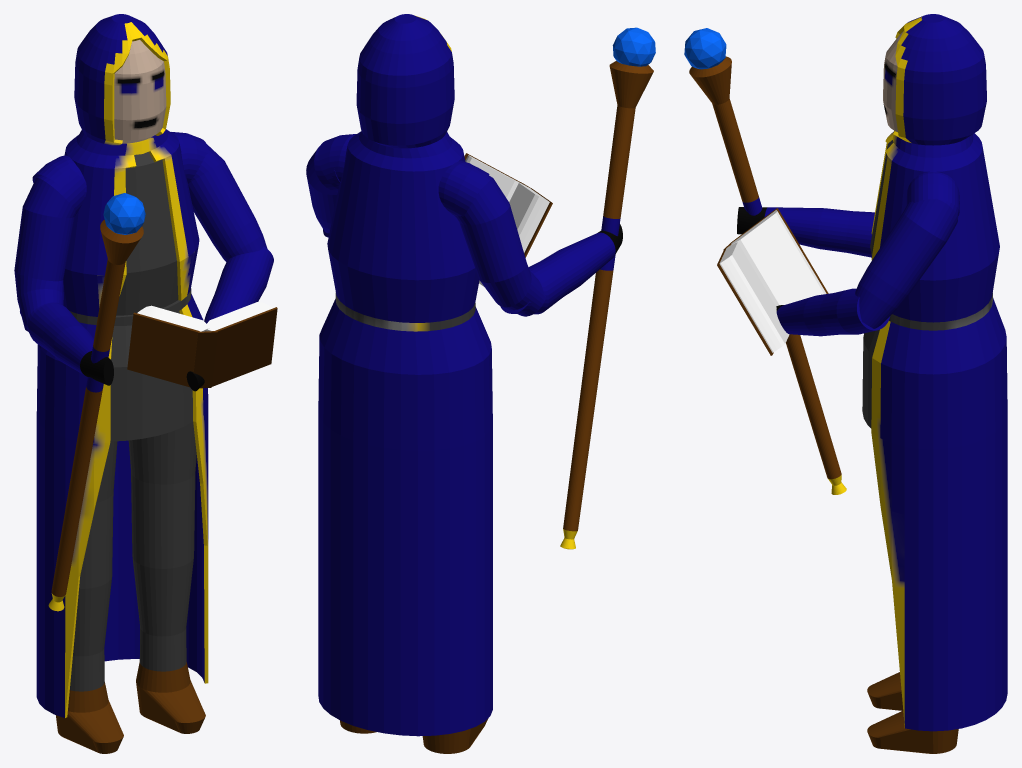
File: Маг2.fbx
3 renders of one model, left to right at view 1: azimuth 30°, elevation 25°; view 2: azimuth 150°, elevation 25°; view 3: azimuth 270°, elevation 25°, orthographic.
Parts seen in each view (by area): view 1: Цилиндр.121, Цилиндр.118, Цилиндр.099, Цилиндр.111, Цилиндр.116, Цилиндр.030, Цилиндр.113, Цилиндр.114, Куб.059, Цилиндр.117, Куб.060, Цилиндр.115 (+7 smaller); view 2: Цилиндр.121, Цилиндр.030, Цилиндр.116, Цилиндр.117, Цилиндр.119, Цилиндр.114, Куб.062, Икосфера.001, Цилиндр.120, Цилиндр.113, Куб.063; view 3: Цилиндр.121, Цилиндр.114, Цилиндр.030, Куб.062, Цилиндр.117, Цилиндр.115, Куб.063, Цилиндр.118, Цилиндр.099, Икосфера.001, Цилиндр.120, Цилиндр.113.
Part boxes in pixels (x1=…): Цилиндр.121: x1=36, y1=14, x2=208, y2=717; Цилиндр.118: x1=110, y1=39, x2=192, y2=441; Цилиндр.099: x1=132, y1=557, x2=205, y2=733; Цилиндр.111: x1=128, y1=421, x2=196, y2=568; Цилиндр.116: x1=14, y1=168, x2=86, y2=331; Цилиндр.030: x1=48, y1=220, x2=143, y2=611; Цилиндр.113: x1=56, y1=578, x2=123, y2=753; Цилиндр.114: x1=188, y1=144, x2=267, y2=262; Куб.059: x1=127, y1=312, x2=199, y2=387; Цилиндр.117: x1=20, y1=302, x2=113, y2=385; Куб.060: x1=211, y1=307, x2=277, y2=386; Цилиндр.115: x1=186, y1=246, x2=273, y2=391; Цилиндр.121: x1=318, y1=14, x2=492, y2=736; Цилиндр.030: x1=560, y1=61, x2=653, y2=549; Цилиндр.116: x1=454, y1=163, x2=545, y2=316; Цилиндр.117: x1=500, y1=224, x2=622, y2=314; Цилиндр.119: x1=438, y1=160, x2=489, y2=216; Цилиндр.114: x1=306, y1=145, x2=340, y2=233; Куб.062: x1=479, y1=183, x2=549, y2=286; Икосфера.001: x1=612, y1=27, x2=655, y2=66; Цилиндр.120: x1=318, y1=134, x2=356, y2=189; Цилиндр.113: x1=422, y1=718, x2=488, y2=753; Куб.063: x1=465, y1=155, x2=520, y2=201; Цилиндр.121: x1=871, y1=14, x2=1007, y2=731; Цилиндр.114: x1=855, y1=198, x2=959, y2=328; Цилиндр.030: x1=689, y1=56, x2=846, y2=494; Куб.062: x1=731, y1=210, x2=826, y2=306; Цилиндр.117: x1=737, y1=207, x2=874, y2=257; Цилиндр.115: x1=776, y1=288, x2=890, y2=336; Куб.063: x1=719, y1=242, x2=789, y2=352; Цилиндр.118: x1=862, y1=31, x2=903, y2=428; Цилиндр.099: x1=867, y1=711, x2=958, y2=753; Икосфера.001: x1=684, y1=28, x2=726, y2=69; Цилиндр.120: x1=906, y1=172, x2=959, y2=215; Цилиндр.113: x1=867, y1=672, x2=903, y2=710.
Size of the model in its own units: 41.63 by 114 by 47.26.
